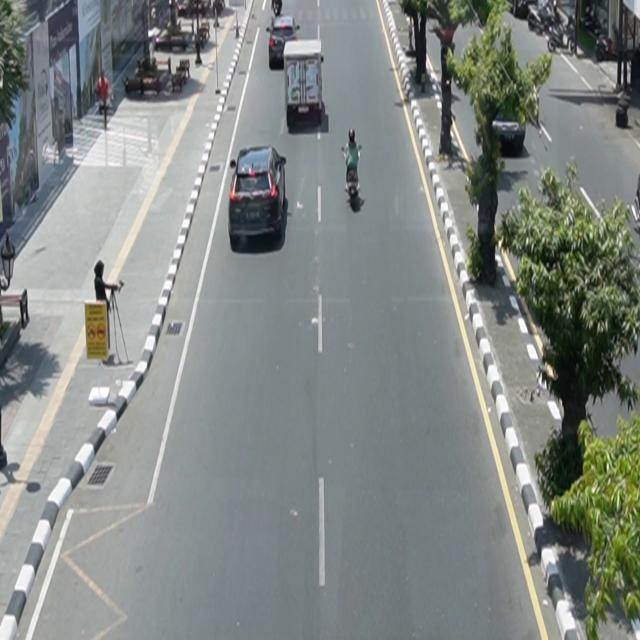car: (229, 145, 288, 243), (268, 15, 301, 70)
truck: (284, 39, 325, 130)
